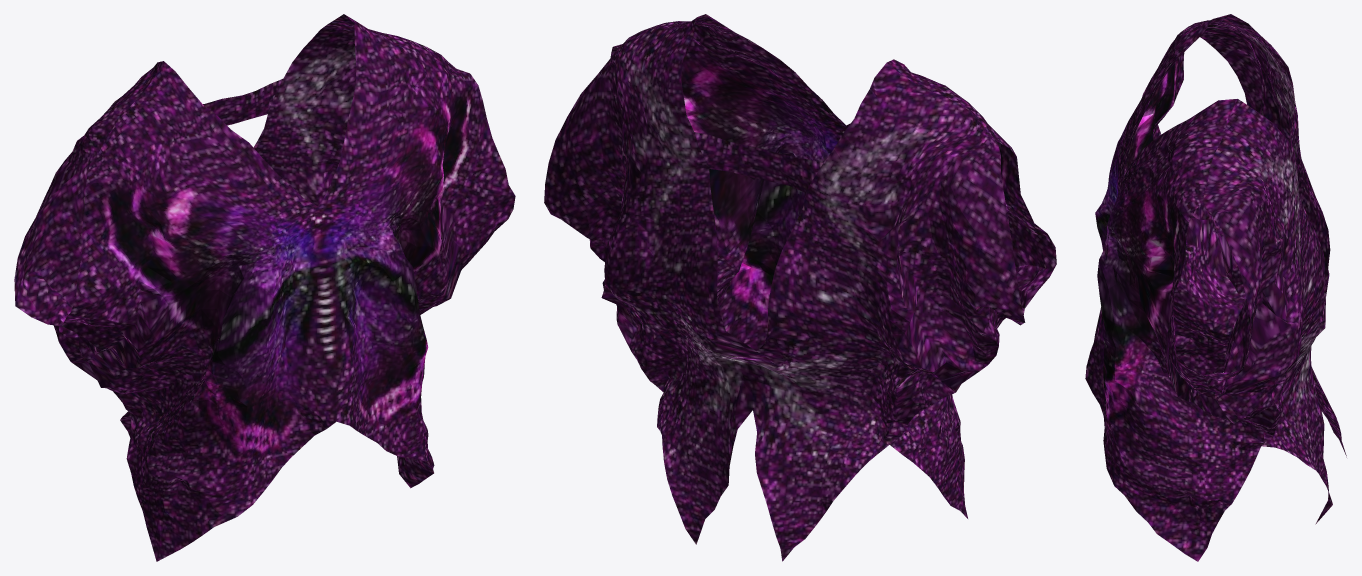
File: mhw_elvs_disco_top_1_butterfly.glb
3 renders of one model, left to right at view 1: azimuth 30°, elevation 25°; view 2: azimuth 150°, elevation 25°; view 3: azimuth 270°, elevation 25°, orthographic. The views are drawn at different scales.
Parts seen in each view (by area): view 1: mhw_elvs_disco_top_1_butterfly; view 2: mhw_elvs_disco_top_1_butterfly; view 3: mhw_elvs_disco_top_1_butterfly.
Boxes of the visible parts, x1,y1,x2,y2 form: mhw_elvs_disco_top_1_butterfly: [14, 14, 515, 561]; mhw_elvs_disco_top_1_butterfly: [544, 14, 1056, 561]; mhw_elvs_disco_top_1_butterfly: [1085, 14, 1346, 561].
Bounding box in the file's own units: 0.6806 × 0.6558 × 0.349.
Materials: 1 (1 with a texture image).
